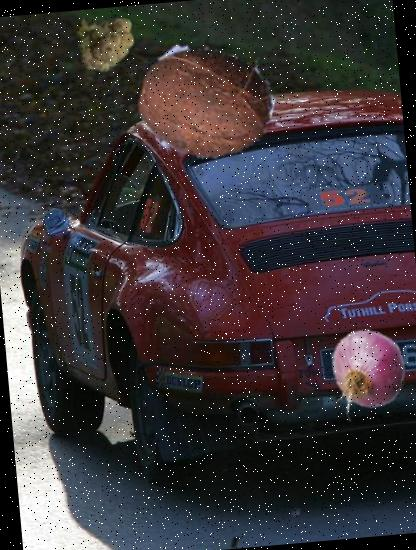Cauliflower: (70, 6, 140, 76)
Cocos: (133, 23, 281, 171)
Onion: (314, 325, 416, 430)
